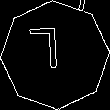L_S: (38, 29, 72, 81)
